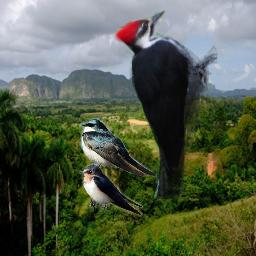Swallow: (80, 118, 157, 178), (79, 163, 143, 217)
Woodpecker: (111, 9, 218, 199)
